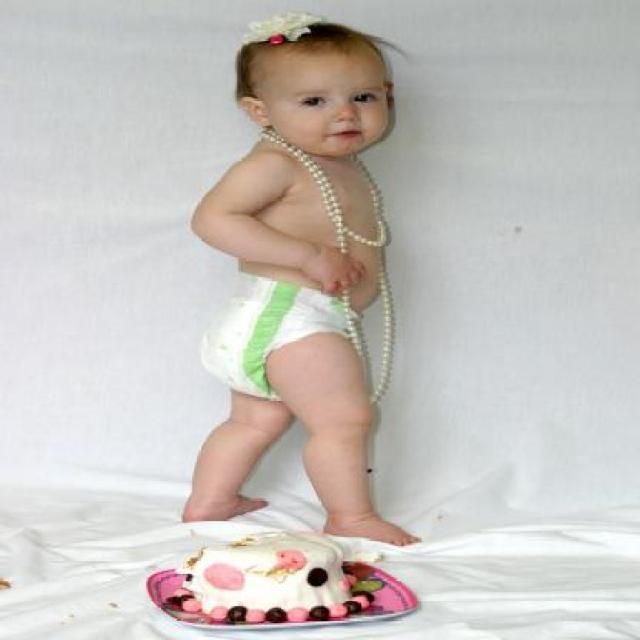Cake: (185, 530, 349, 612)
